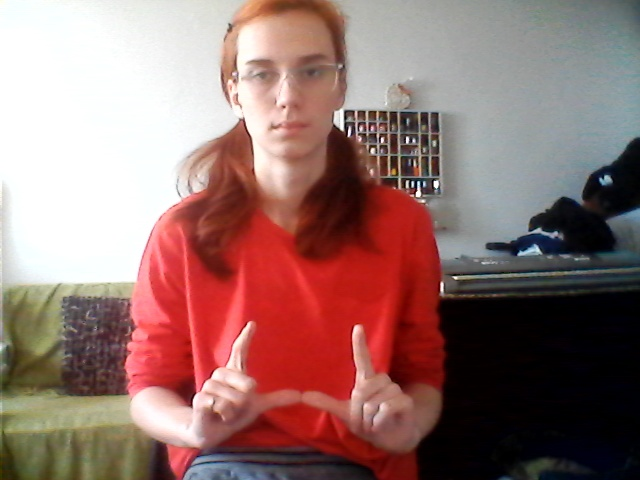u: (183, 315, 422, 460)
